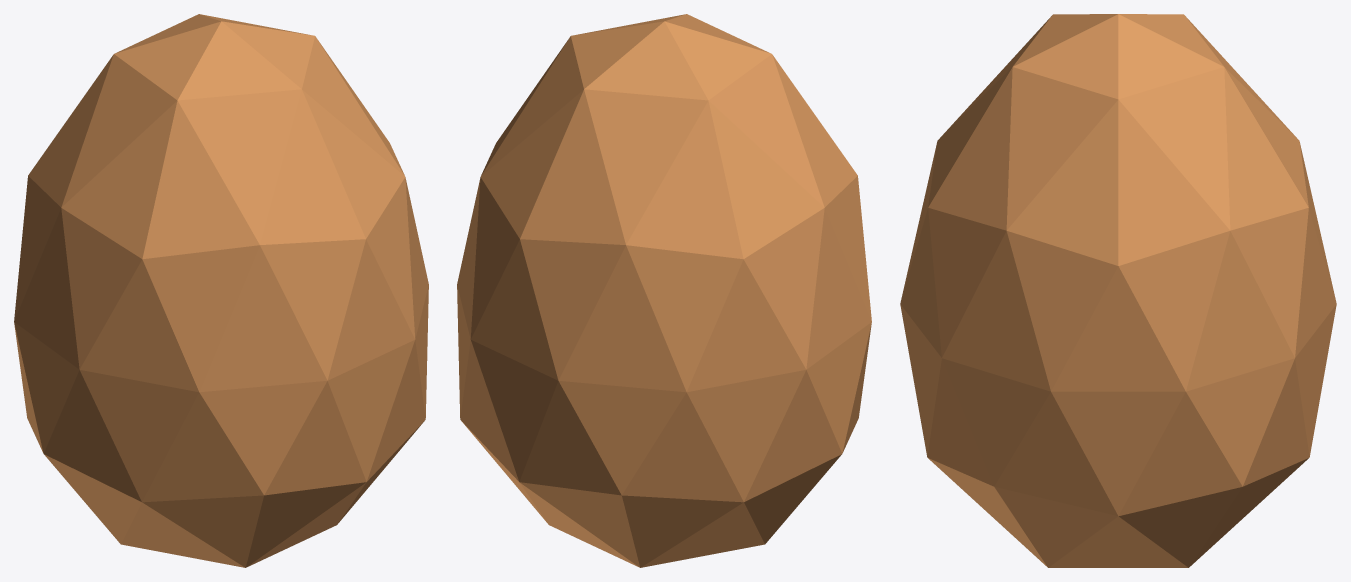
Rendered from crackdown.glb.
The picture shows the model from 3 angles, left to right: view 1: azimuth 30°, elevation 25°; view 2: azimuth 150°, elevation 25°; view 3: azimuth 270°, elevation 25°; orthographic projection. The views are drawn at different scales.
Parts seen in each view (by area): view 1: Icosphere; view 2: Icosphere; view 3: Icosphere.
Part boxes in pixels (x1,y1,x2,y2): Icosphere: (14, 14, 428, 567); Icosphere: (457, 14, 871, 567); Icosphere: (900, 14, 1336, 567).
Size of the model in its own units: 1.84 by 2.64 by 1.92.
